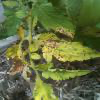Tomato Septoria leaf spot: (37, 33, 99, 64), (28, 1, 77, 36), (31, 60, 92, 80), (0, 42, 24, 81), (30, 78, 57, 99)
